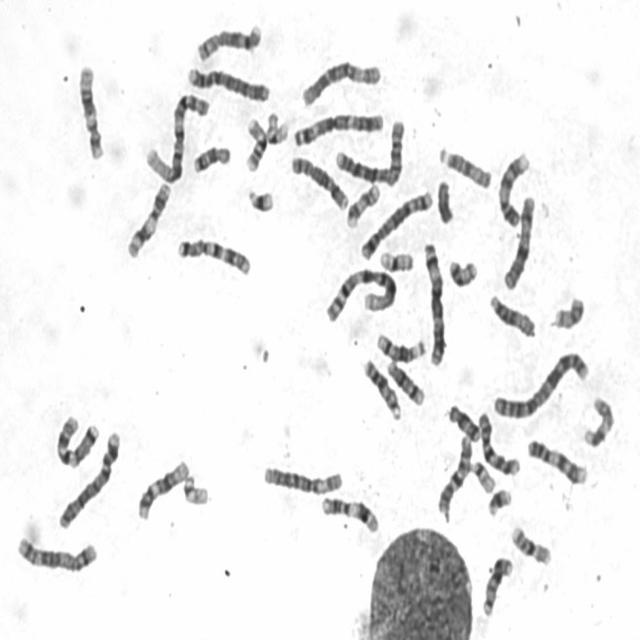A1: (142, 88, 211, 184), (322, 262, 398, 324)
A2: (490, 346, 591, 421), (332, 115, 405, 187)
A3: (289, 106, 386, 149), (420, 237, 447, 367)
B4: (54, 425, 122, 532), (183, 60, 271, 104)
B5: (356, 185, 434, 262), (12, 530, 98, 574)
C10: (434, 430, 474, 519), (475, 407, 522, 477)
C11: (122, 177, 172, 260), (318, 491, 381, 534)
C12: (133, 454, 191, 522), (75, 59, 105, 162)
C6: (298, 54, 382, 109), (259, 459, 345, 496)
C7: (173, 232, 253, 277), (52, 409, 100, 470)
C8: (287, 150, 350, 212), (194, 18, 264, 63)
C9: (523, 435, 589, 486), (494, 146, 532, 228)
D13: (360, 354, 402, 421), (479, 551, 514, 619)
D14: (383, 356, 426, 407), (372, 328, 427, 364)
D15: (435, 142, 493, 190), (486, 289, 537, 340)
E16: (508, 520, 552, 568), (242, 112, 268, 173)
E17: (580, 392, 616, 450), (343, 179, 382, 229)
E18: (445, 400, 482, 443), (190, 141, 232, 175)
F19: (376, 245, 415, 274), (263, 106, 290, 146)
F20: (550, 291, 586, 332), (444, 254, 478, 289)
G21: (484, 484, 513, 518), (244, 183, 275, 214)
G22: (180, 470, 210, 507), (468, 456, 497, 494)
X: (500, 190, 538, 292)
Y: (434, 175, 455, 226)
